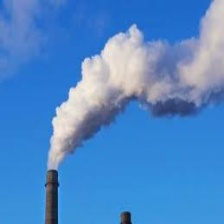smoke: (39, 2, 219, 169)
